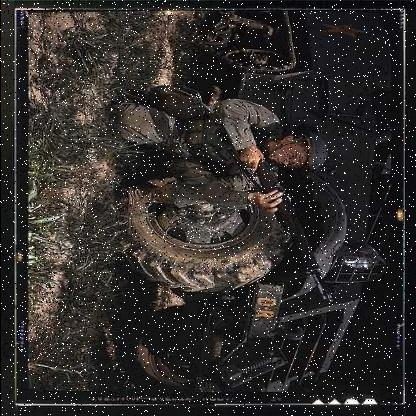rifle: (215, 129, 336, 309)
